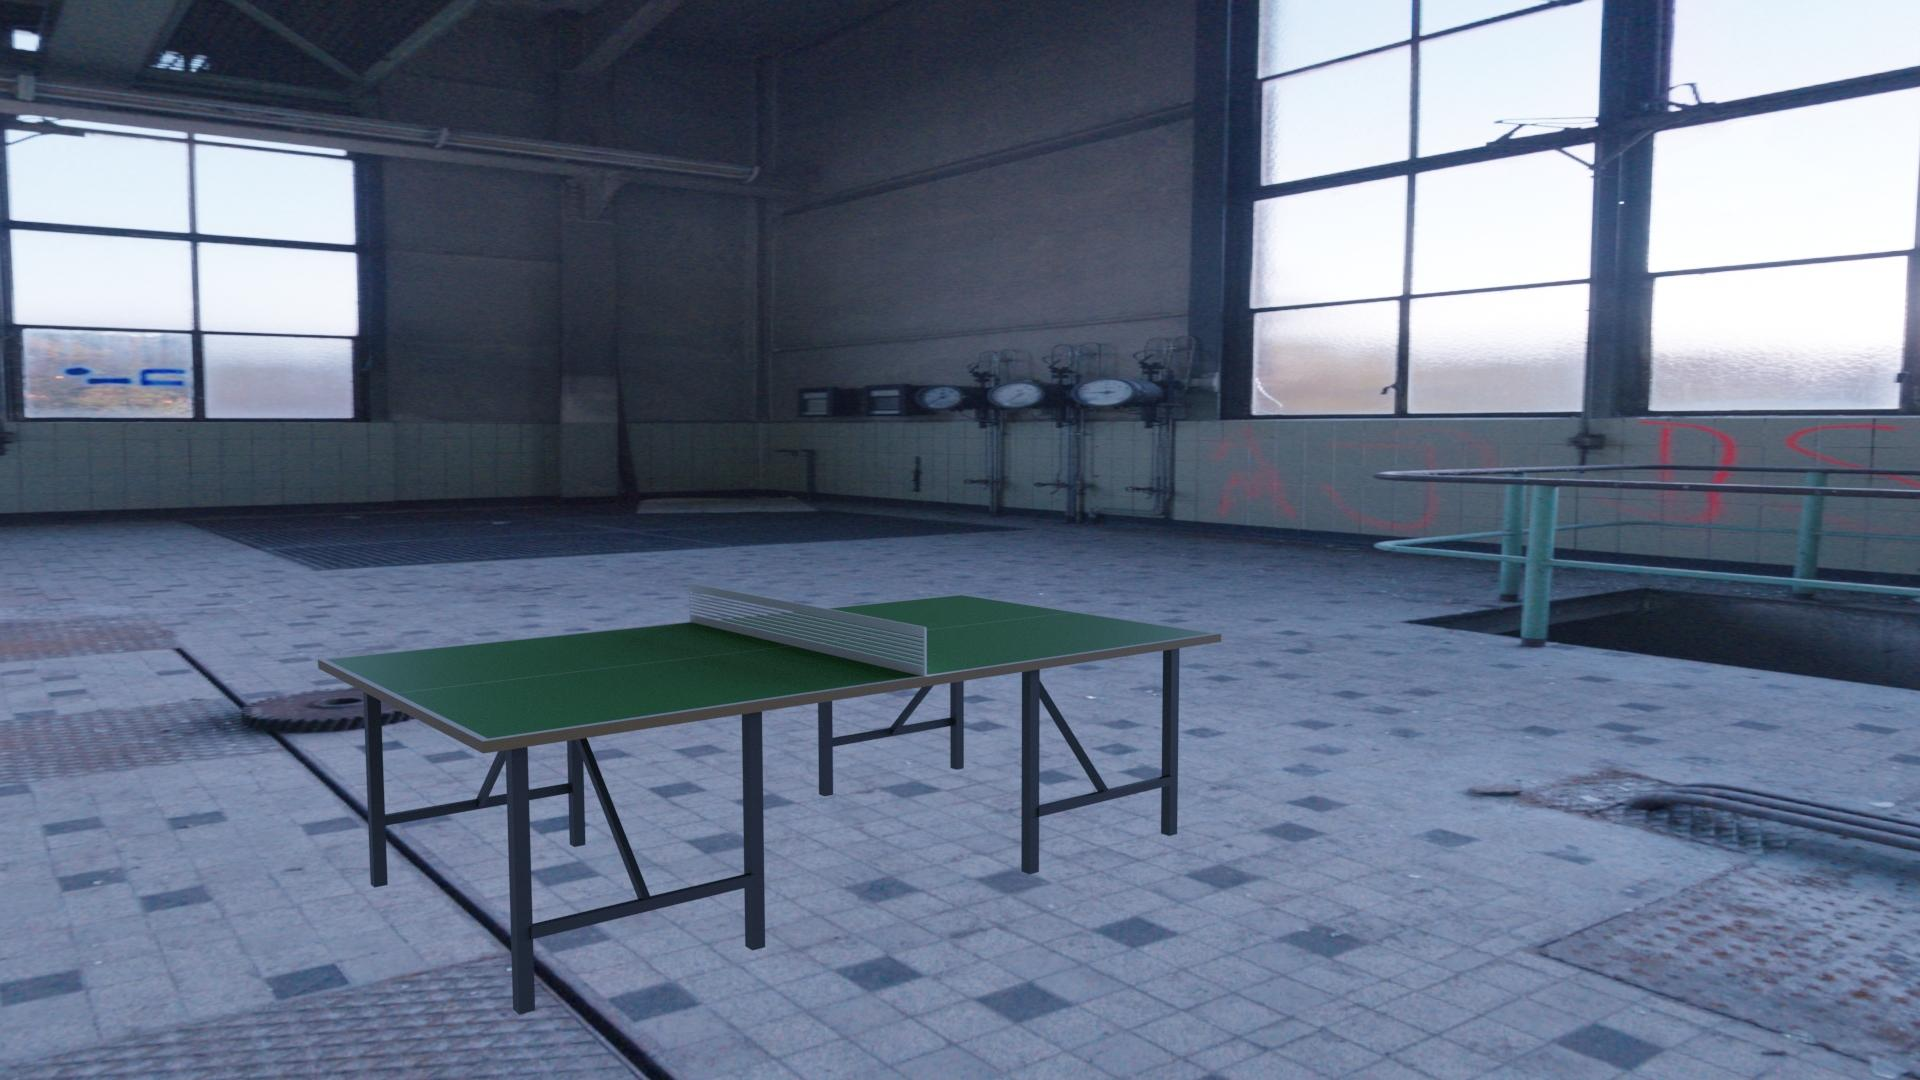table: (326, 595, 1213, 738)
